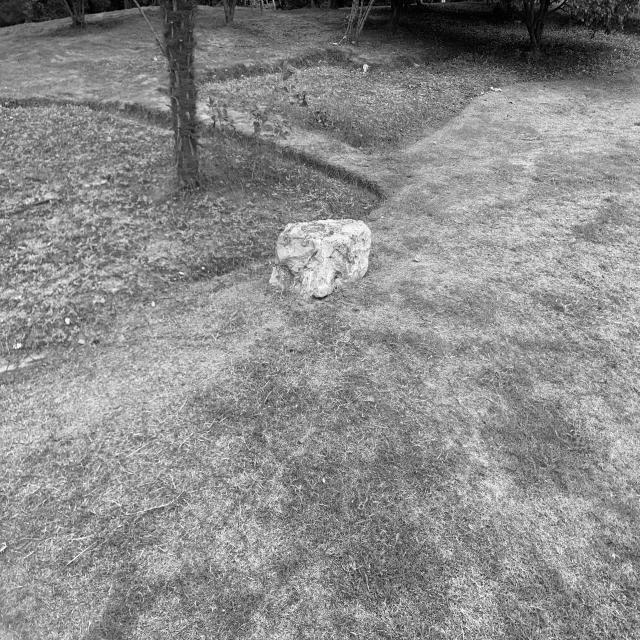Stone: (270, 219, 371, 297)
